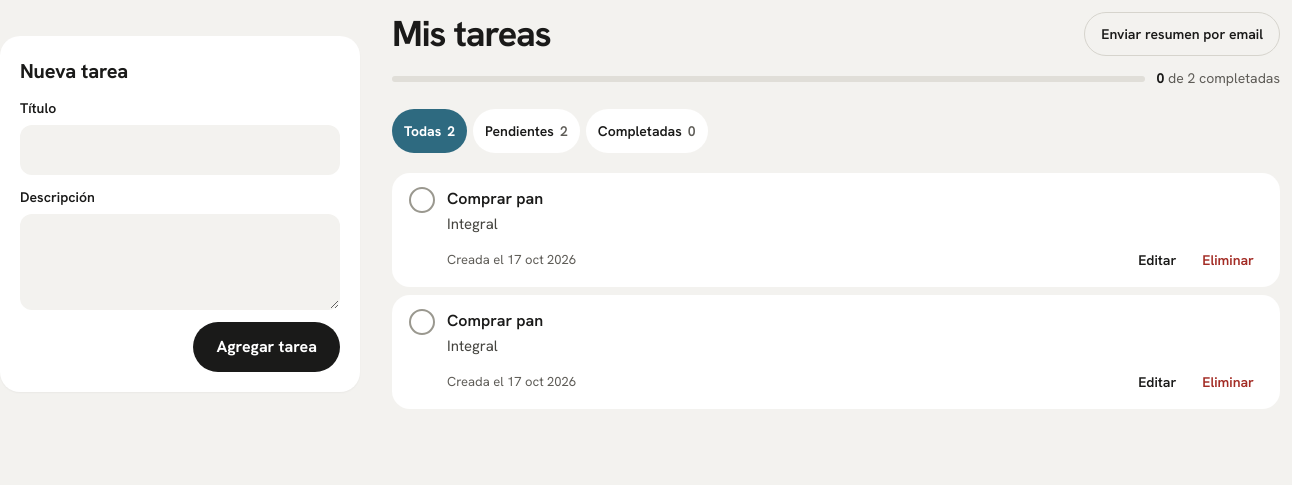
Test case: Enviar resumen › shows the confirmation after sending the summary
Click the button "Enviar resumen por email".
click(1182, 34)  # box top-left (1084, 12), bottom-right (1280, 56)
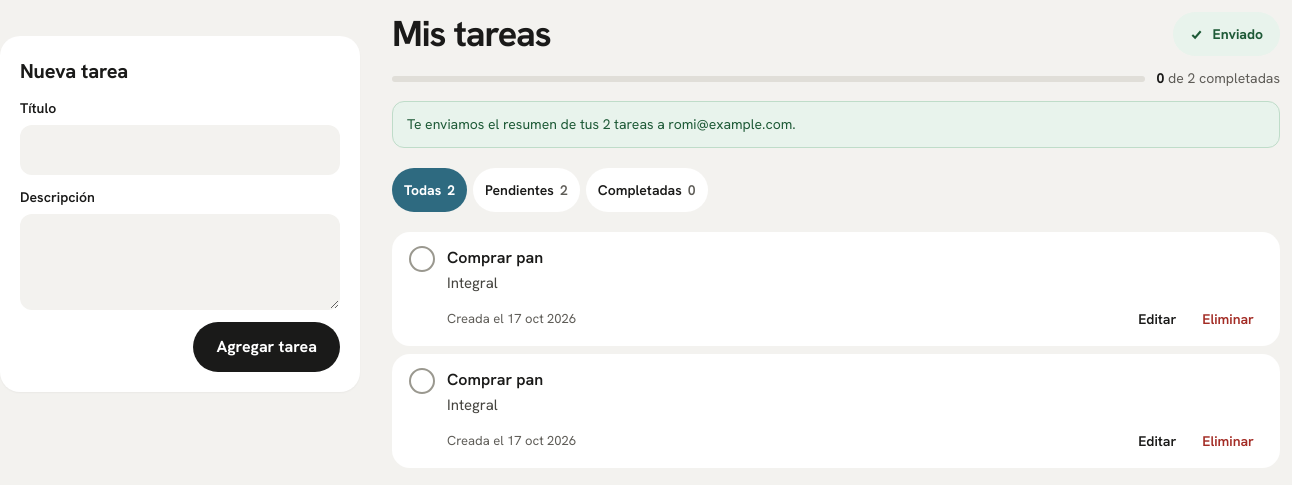
Now the message reads "Te enviamos el resumen de tus 2 tareas a romi@example.com.", box top-left (407, 115), bottom-right (796, 133)
Now the button "Enviado" is shown, box top-left (1173, 12), bottom-right (1280, 56)
